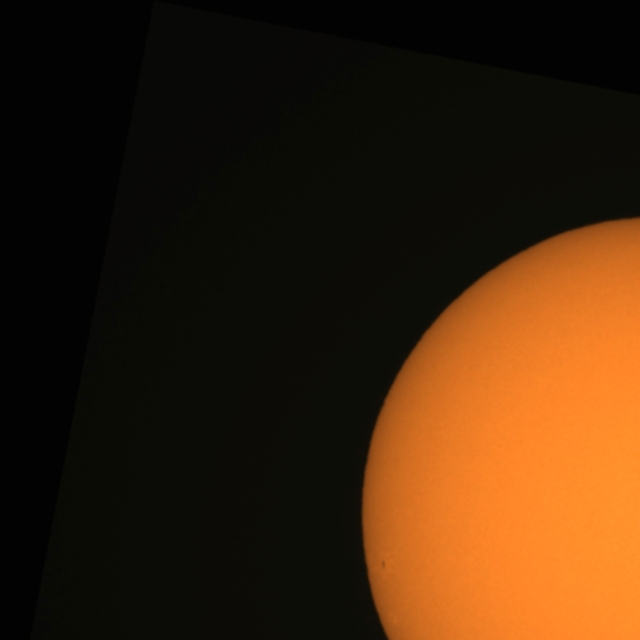sunspot: (379, 554, 393, 571), (380, 559, 388, 571)
